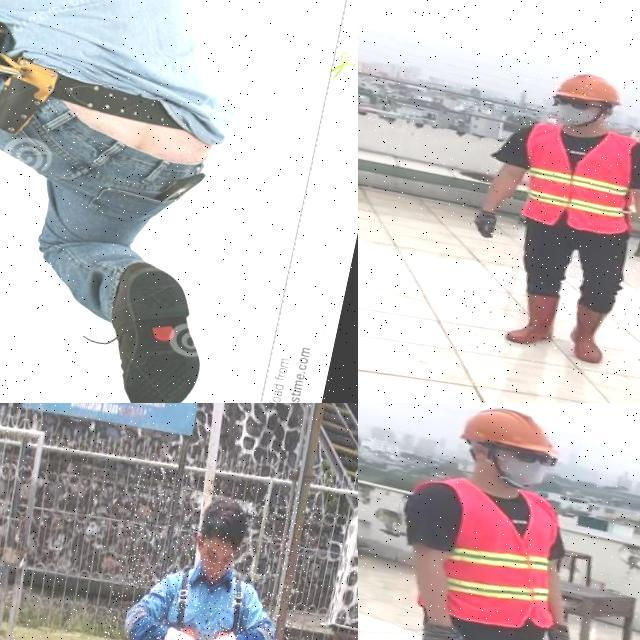boots: (86, 253, 219, 403), (505, 288, 561, 350), (562, 301, 616, 364)
helmet: (454, 403, 559, 458), (552, 62, 630, 111)
vest: (384, 466, 578, 639), (513, 118, 640, 239), (118, 559, 275, 640)
